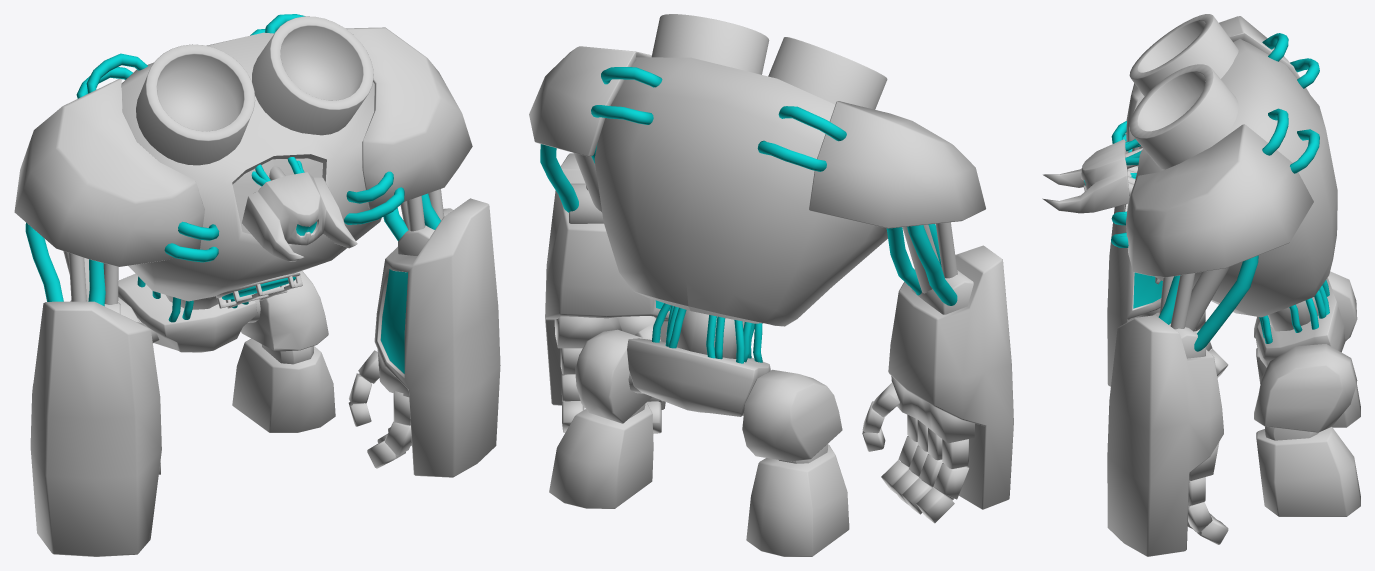
The model's file is Tank_Robot.fbx.
3 renders of one model, left to right at view 1: azimuth 30°, elevation 25°; view 2: azimuth 150°, elevation 25°; view 3: azimuth 270°, elevation 25°, orthographic. The views are drawn at different scales.
Parts seen in each view (by area): view 1: mesh_tank_robot; view 2: mesh_tank_robot; view 3: mesh_tank_robot.
Part boxes in pixels (left/top/right/bottom): mesh_tank_robot: left=14, top=14, right=500, bottom=556; mesh_tank_robot: left=529, top=14, right=1013, bottom=556; mesh_tank_robot: left=1042, top=14, right=1360, bottom=556.
Size of the model in its own units: 636 by 600 by 416.
